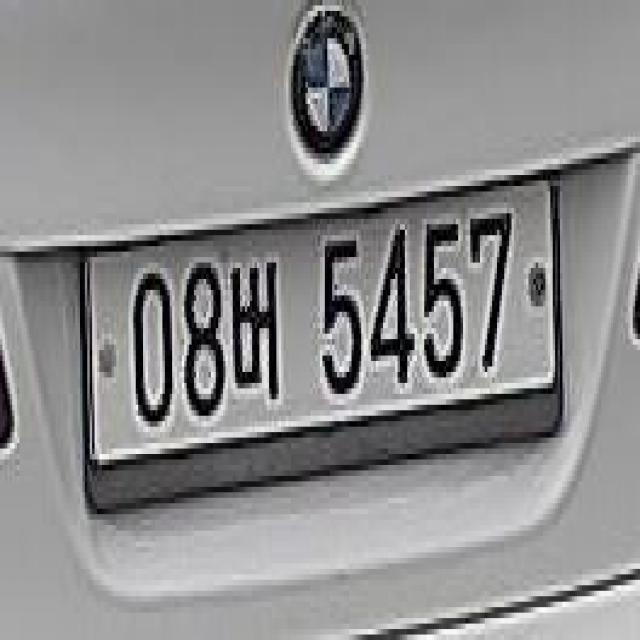illegal_plate: (77, 167, 562, 515)
